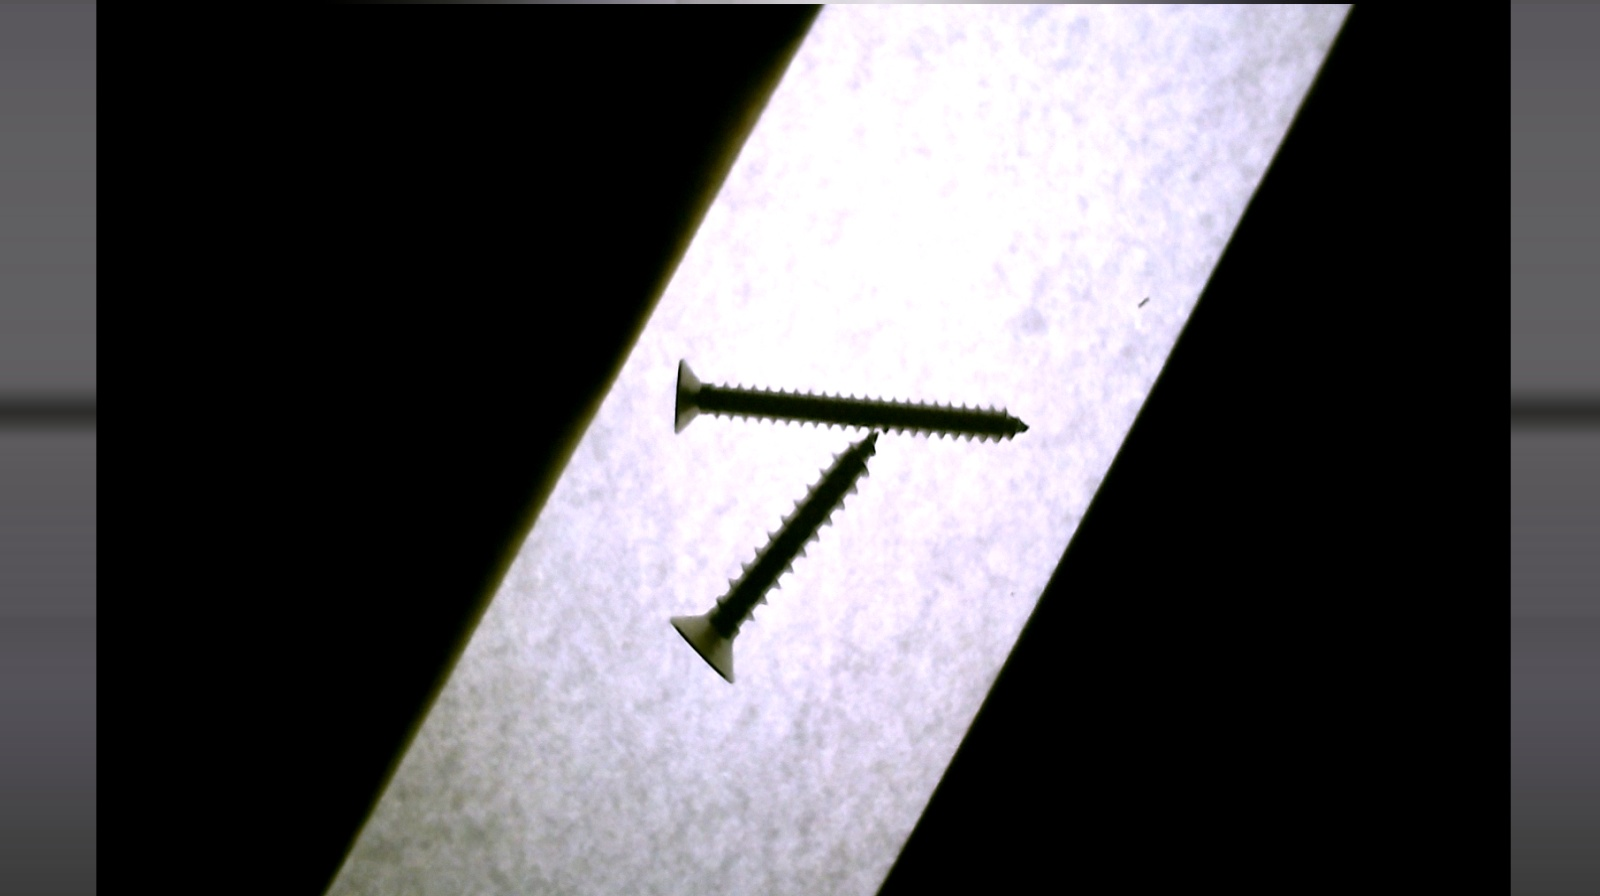S001: (666, 428, 884, 685)
S002: (667, 358, 1032, 441)
